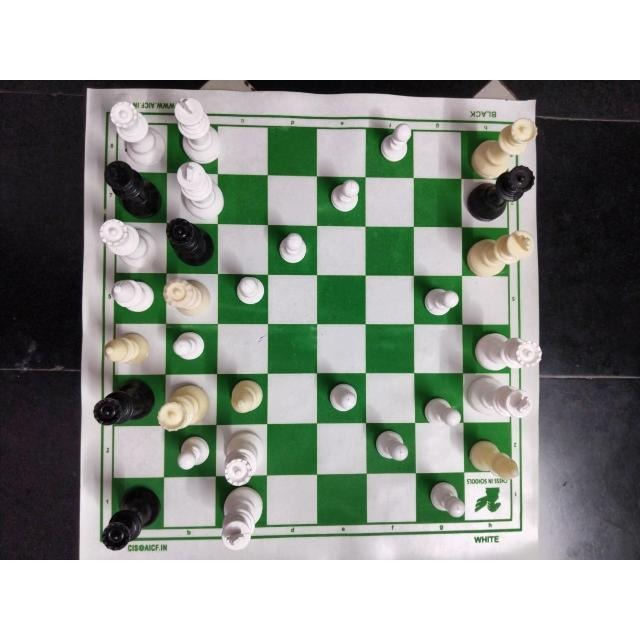black-king: (102, 160, 165, 218)
black-queen: (100, 483, 163, 552), (466, 164, 535, 225), (91, 377, 157, 428), (164, 219, 216, 268)
white-bishop: (467, 437, 522, 483), (102, 328, 152, 368), (109, 277, 159, 313), (228, 377, 266, 416)
white-king: (170, 95, 224, 165), (464, 228, 535, 278), (465, 374, 534, 424), (173, 162, 227, 220), (220, 487, 264, 551)
white-pawn: (425, 480, 467, 521), (377, 121, 413, 165), (421, 395, 463, 431), (372, 428, 412, 464), (420, 286, 462, 320), (169, 330, 209, 364), (273, 231, 312, 265), (173, 436, 212, 470), (326, 380, 361, 416), (325, 179, 362, 213), (233, 274, 267, 308)
white-queen: (469, 115, 539, 182), (109, 99, 167, 167), (471, 328, 543, 373), (98, 218, 160, 269), (155, 383, 212, 431), (223, 429, 264, 489), (162, 276, 212, 316)
